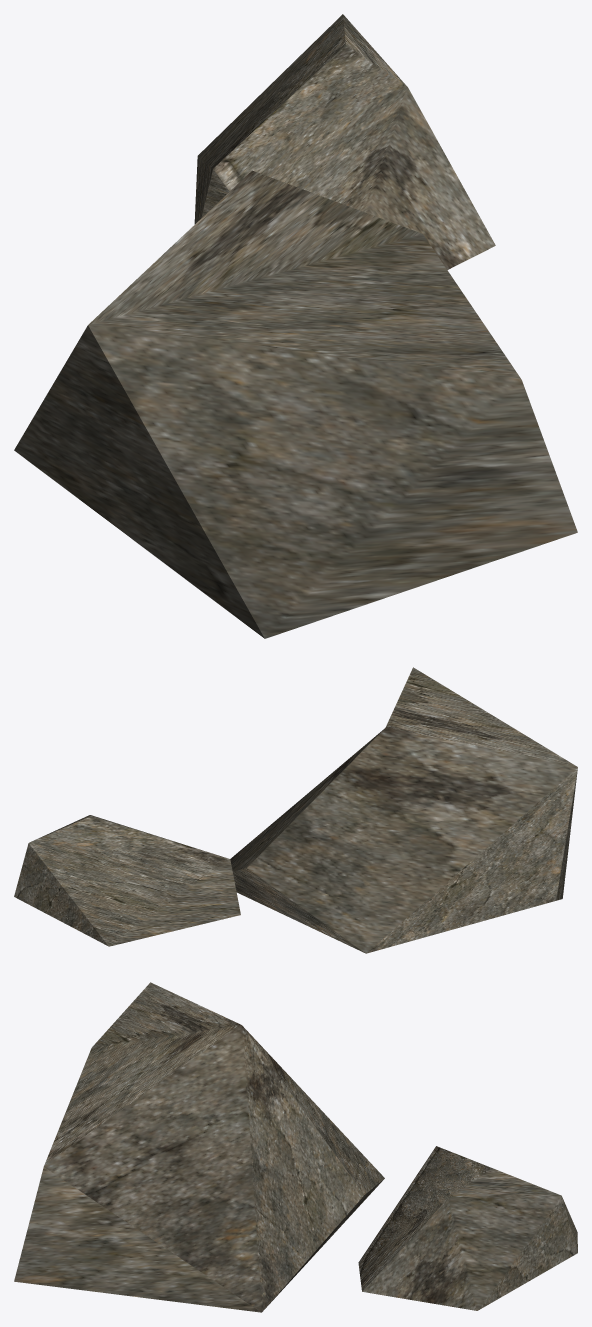
The model's file is mm9_deco_stonedebris02p350.glb.
3 views of the same model, one above another, from view 1: azimuth 30°, elevation 25°; view 2: azimuth 150°, elevation 25°; view 3: azimuth 270°, elevation 25° (orthographic). The views are drawn at different scales.
Visible parts, largest first — view 1: Stonedebris02p350; view 2: Stonedebris02p350; view 3: Stonedebris02p350.
Boxes of the visible parts, x1,y1,x2,y2 form: Stonedebris02p350: (14, 14, 577, 638); Stonedebris02p350: (14, 667, 577, 953); Stonedebris02p350: (14, 982, 577, 1312).
Bounding box in the file's own units: 1.45 × 0.7618 × 1.66.
Materials: 1 (1 with a texture image).
